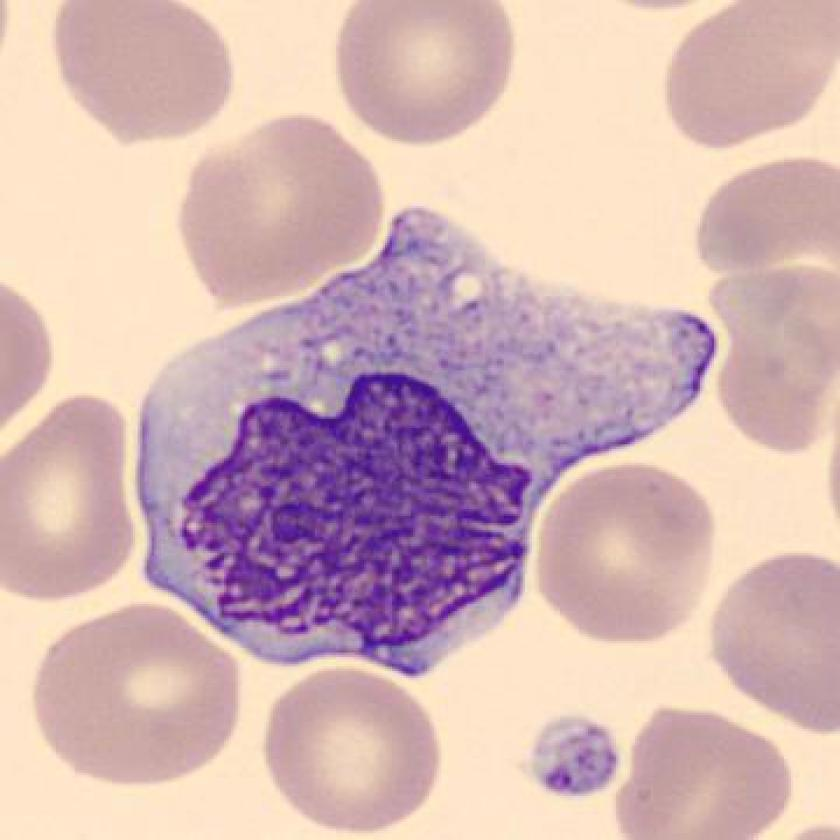monocyte: (104, 182, 734, 695)
